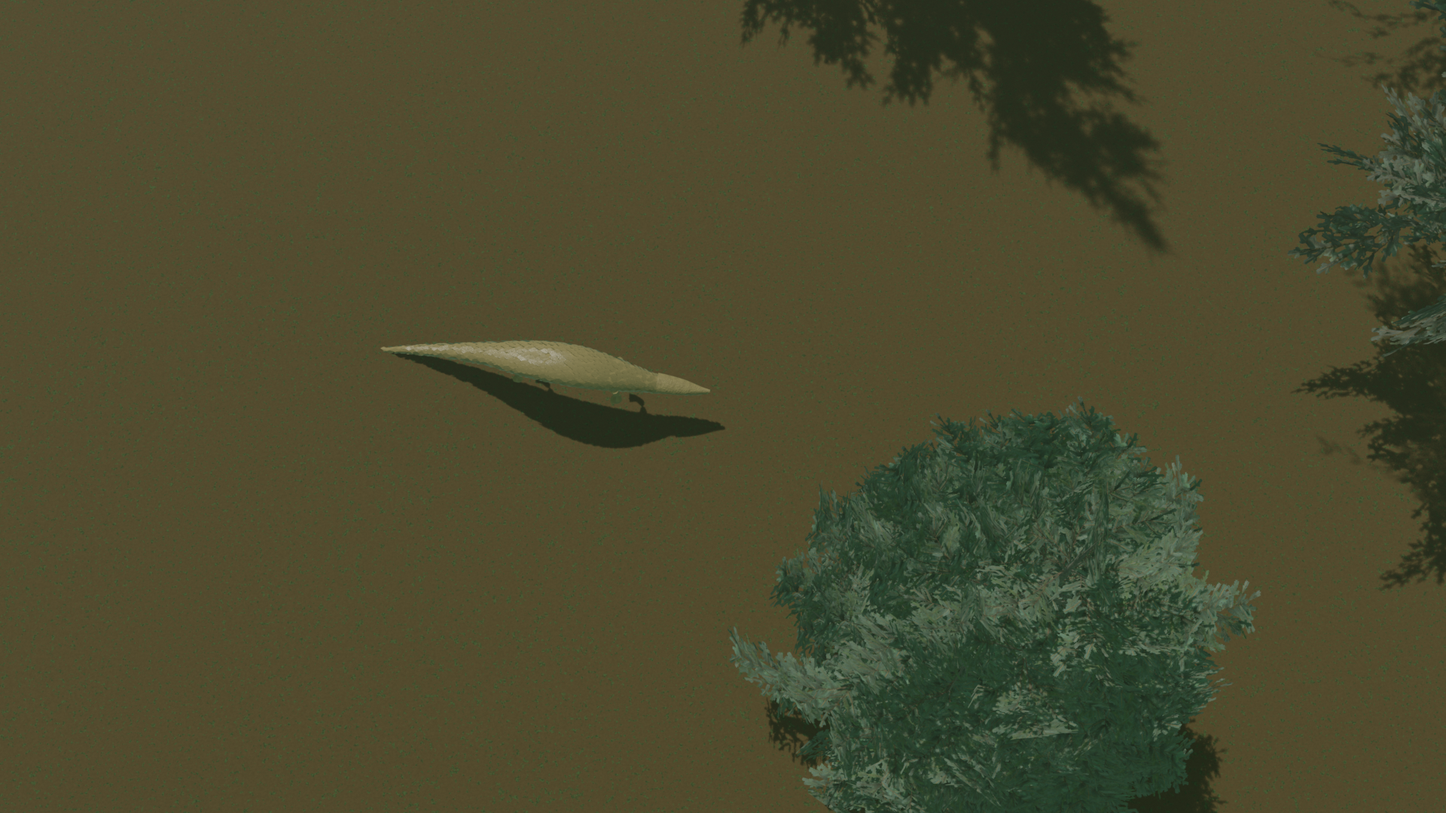pangolin: (330, 313, 711, 424)
